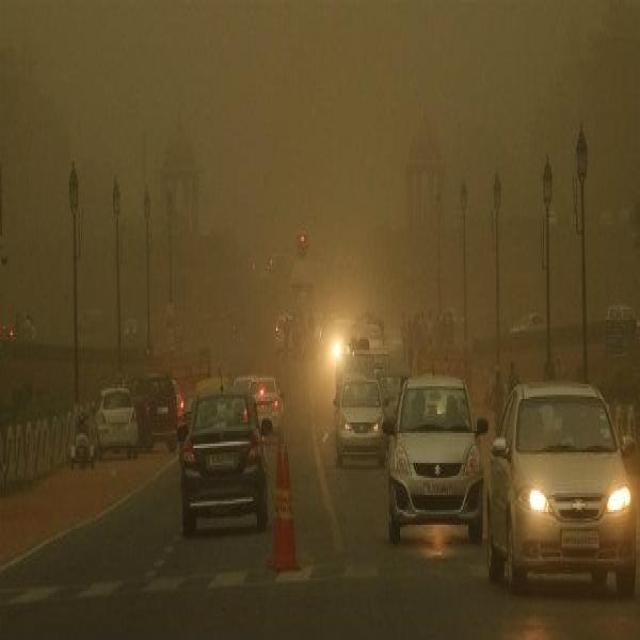Car: (486, 386, 638, 594), (382, 375, 490, 546), (176, 384, 271, 528), (332, 373, 389, 466), (94, 384, 141, 461), (133, 373, 180, 449), (250, 377, 284, 434), (507, 311, 547, 334)
Cycle: (68, 408, 94, 470)
